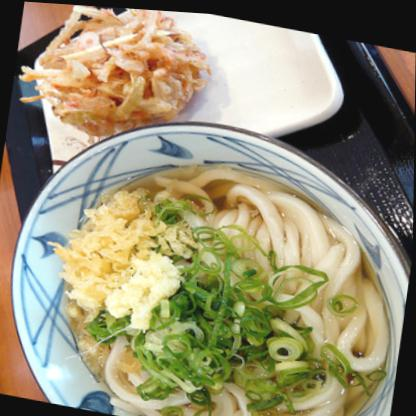Udon: (39, 143, 399, 415)
